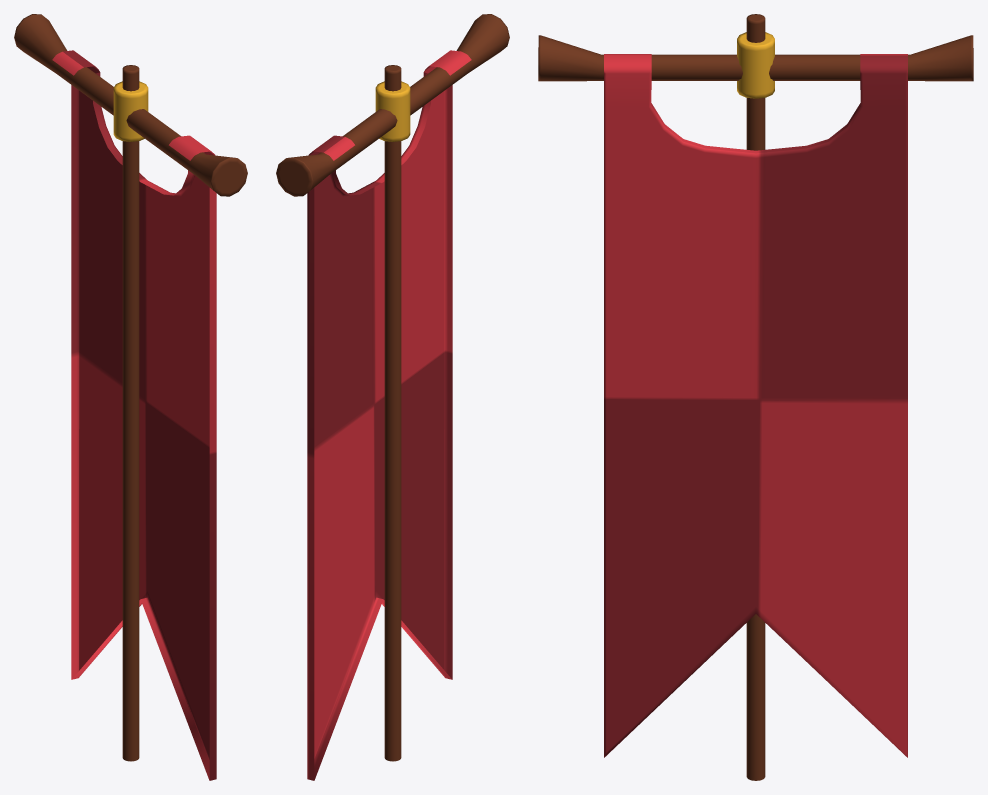
The model's file is Banner.fbx.
3 renders of one model, left to right at view 1: azimuth 30°, elevation 25°; view 2: azimuth 150°, elevation 25°; view 3: azimuth 270°, elevation 25°, orthographic. The views are drawn at different scales.
Parts seen in each view (by area): view 1: Flag, Pole, Gold; view 2: Flag, Pole, Gold; view 3: Flag, Pole, Gold.
Boxes of the visible parts, left/top/right/bottom form: Flag: left=52, top=50, right=216, bottom=780; Pole: left=14, top=14, right=247, bottom=761; Gold: left=113, top=81, right=148, bottom=141; Flag: left=307, top=50, right=471, bottom=780; Pole: left=276, top=14, right=509, bottom=761; Gold: left=375, top=81, right=410, bottom=141; Flag: left=604, top=54, right=907, bottom=757; Pole: left=538, top=14, right=973, bottom=780; Gold: left=737, top=32, right=774, bottom=98.
Bounding box in the file's own units: 0.1109 × 2.01 × 1.04.
